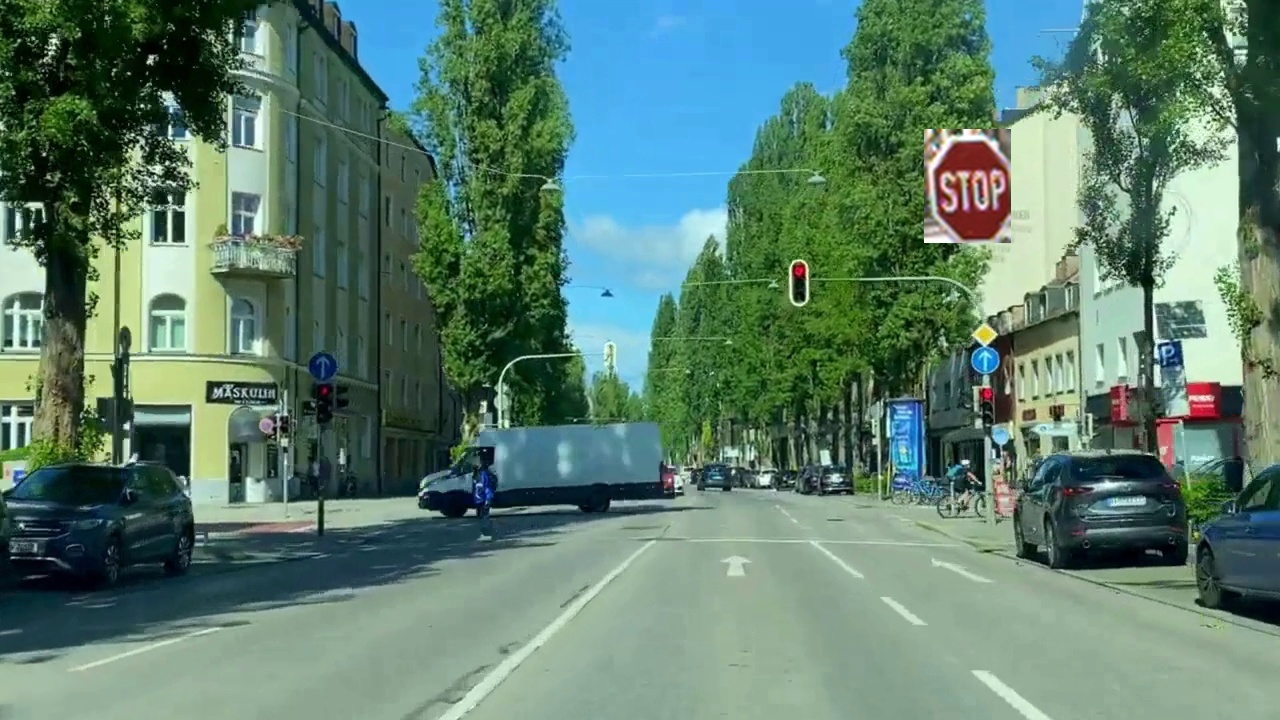Stop: (924, 129, 1011, 243)
